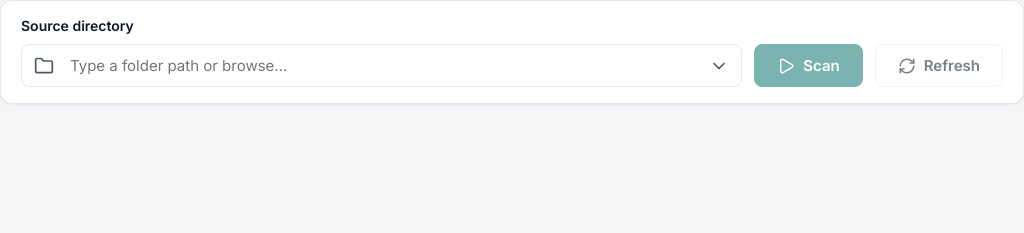
Test: SourceBar recent folders › closes the menu with Escape and returns focus to its button
Click the button named "Recent folders" at (719, 66), box left=697, top=48, right=741, bottom=84
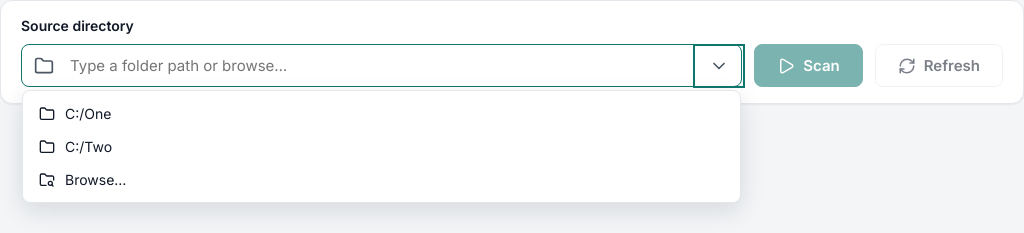
Press Tab
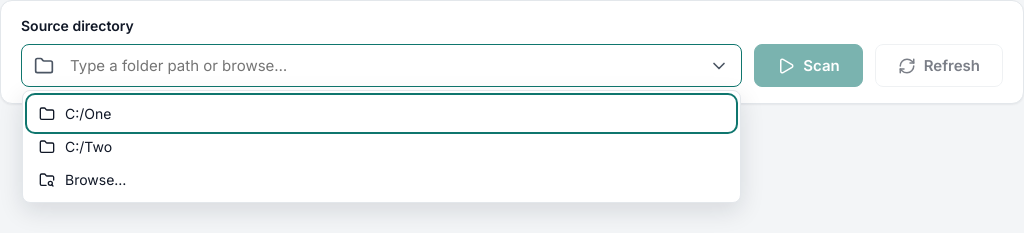
Press Escape
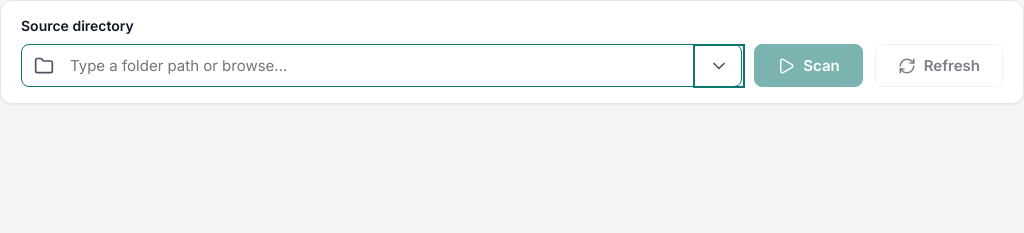
Now the button "C:/One" is gone
